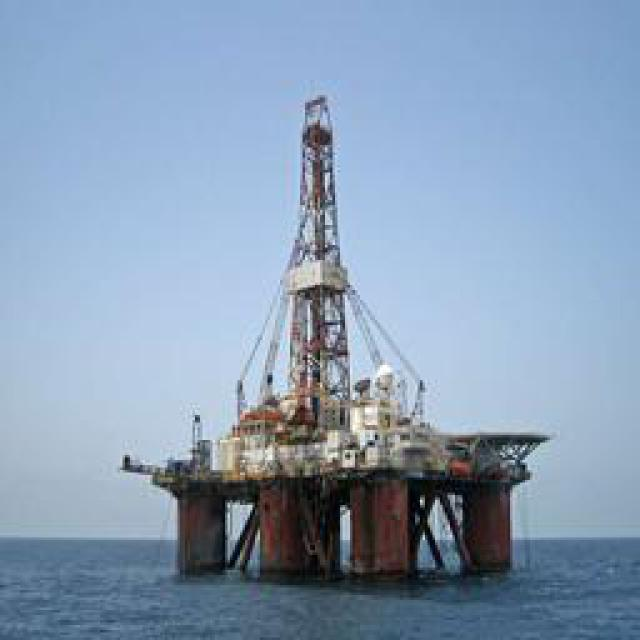Ship: (114, 102, 559, 572)
